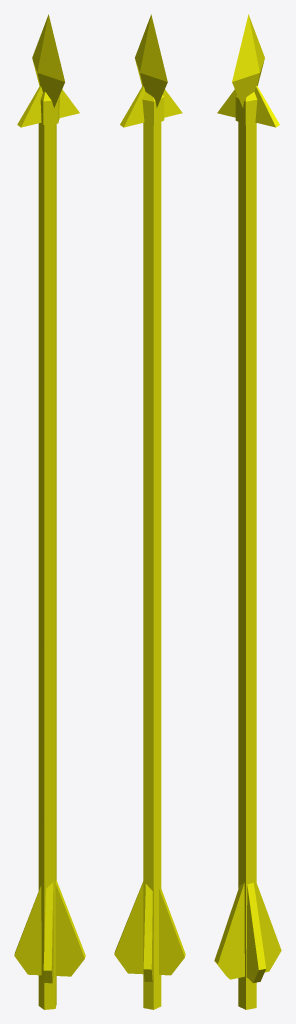
Rendered from _arrow_c_4.glb.
3 renders of one model, left to right at view 1: azimuth 30°, elevation 25°; view 2: azimuth 210°, elevation 25°; view 3: azimuth 330°, elevation 25°, orthographic.
Parts seen in each view (by area): view 1: arrow_c_4; view 2: arrow_c_4; view 3: arrow_c_4.
Boxes of the visible parts, <box> form: arrow_c_4: <box>14,14,85,1009</box>; arrow_c_4: <box>114,14,185,1009</box>; arrow_c_4: <box>214,14,281,1009</box>.
Size of the model in its own units: 0.0372 by 0.5962 by 0.0364.
Materials: 1 (1 with a texture image).
